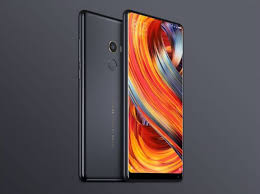mi: (74, 6, 187, 182), (120, 7, 187, 182), (76, 8, 121, 182)
